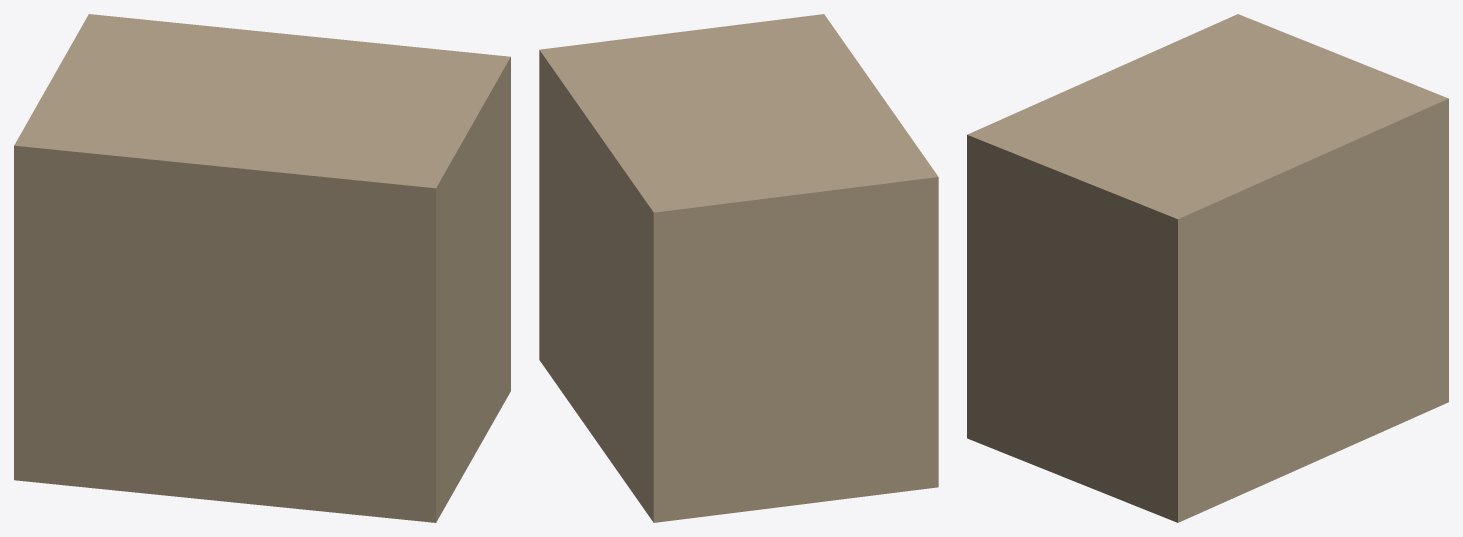
File: bld_100469458.dae
3 views of the same model, side by side, from view 1: azimuth 30°, elevation 25°; view 2: azimuth 150°, elevation 25°; view 3: azimuth 270°, elevation 25° (orthographic). The views are drawn at different scales.
Parts seen in each view (by area): view 1: bld_100469458; view 2: bld_100469458; view 3: bld_100469458.
Boxes of the visible parts, <box> form: bld_100469458: <box>14,14,510,522</box>; bld_100469458: <box>539,14,938,522</box>; bld_100469458: <box>967,14,1448,522</box>.
Bounding box in the file's own units: 11.6 × 11.5 × 8.
